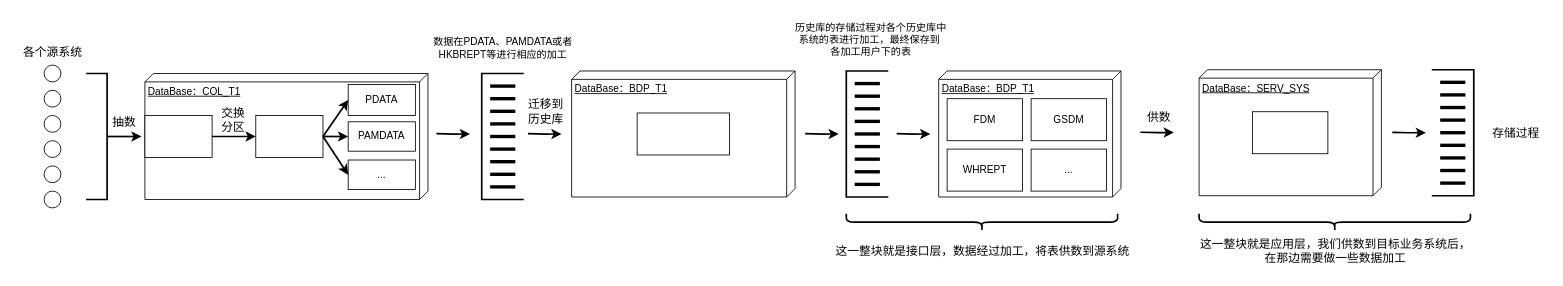
The diagram is 1563 pixels wide and 286 high, and some of its shapes have lost their labels. The shapes that lost their labels are listed below. From the top down, each one's centre as x and y in pixels, then its label:
the point at 178,136: ODM
the point at 289,136: SODM
the point at 683,133: HDM
the point at 1290,132: USER_SYS
